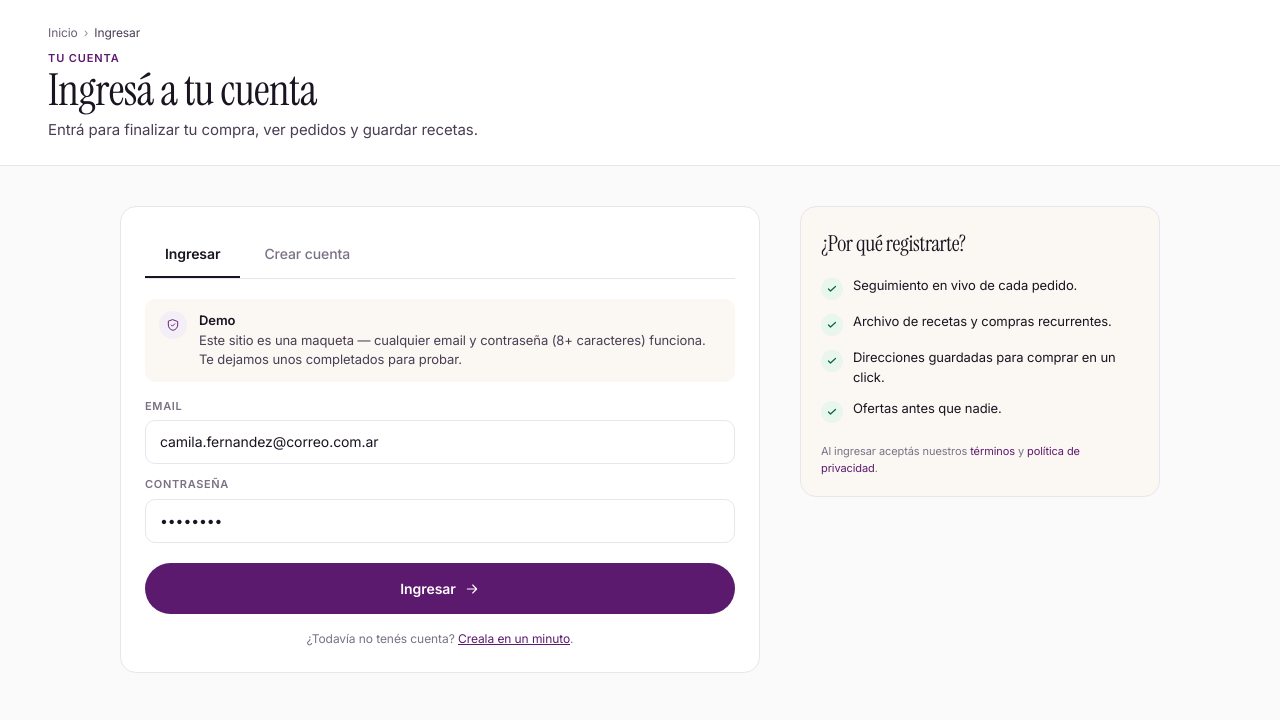
Test case: LoginView › switches to the 'Crear cuenta' tab and reveals signup-only fields
What coordinates should you click on to do the following:
click the tab "Crear cuenta"
I would click on:
 (307, 255)
Its box is [244,231,370,278].
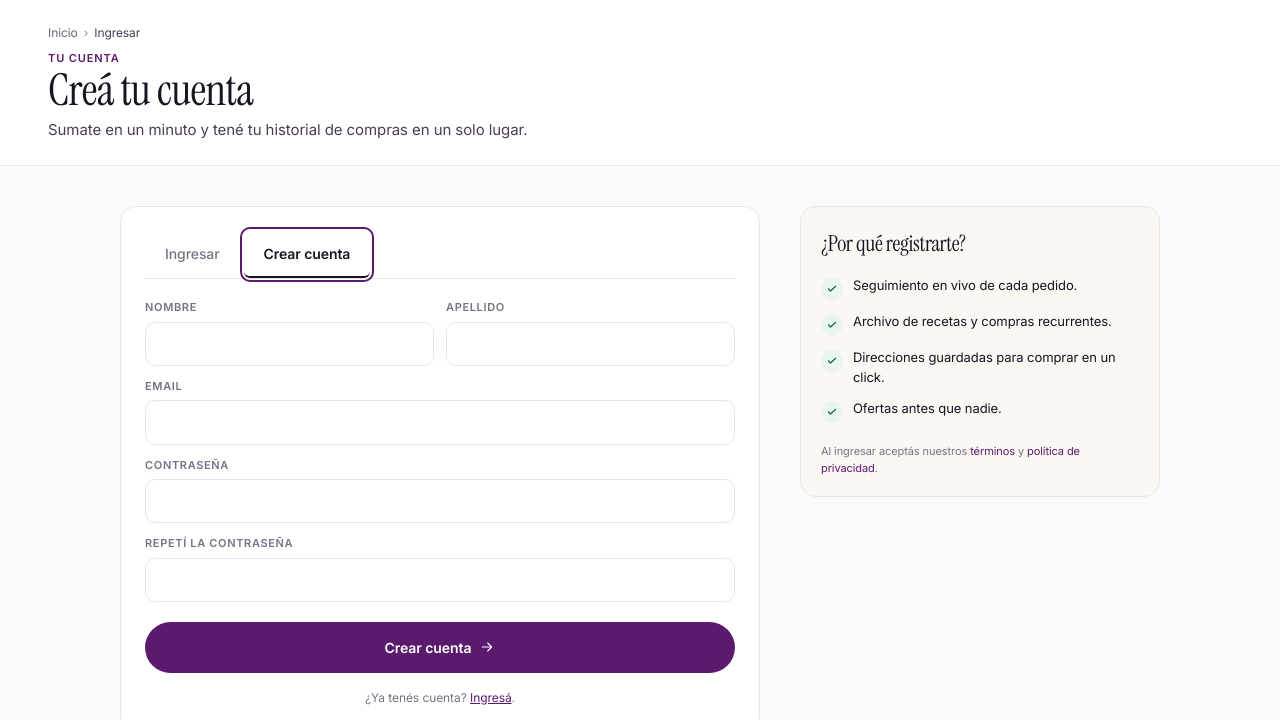
Now the field labelled "Nombre" is shown, box [145,322,434,366]
Now the field labelled "Apellido" is shown, box [446,322,735,366]
Now the password field labelled "Repetí la contraseña" is shown, box [145,558,735,602]
